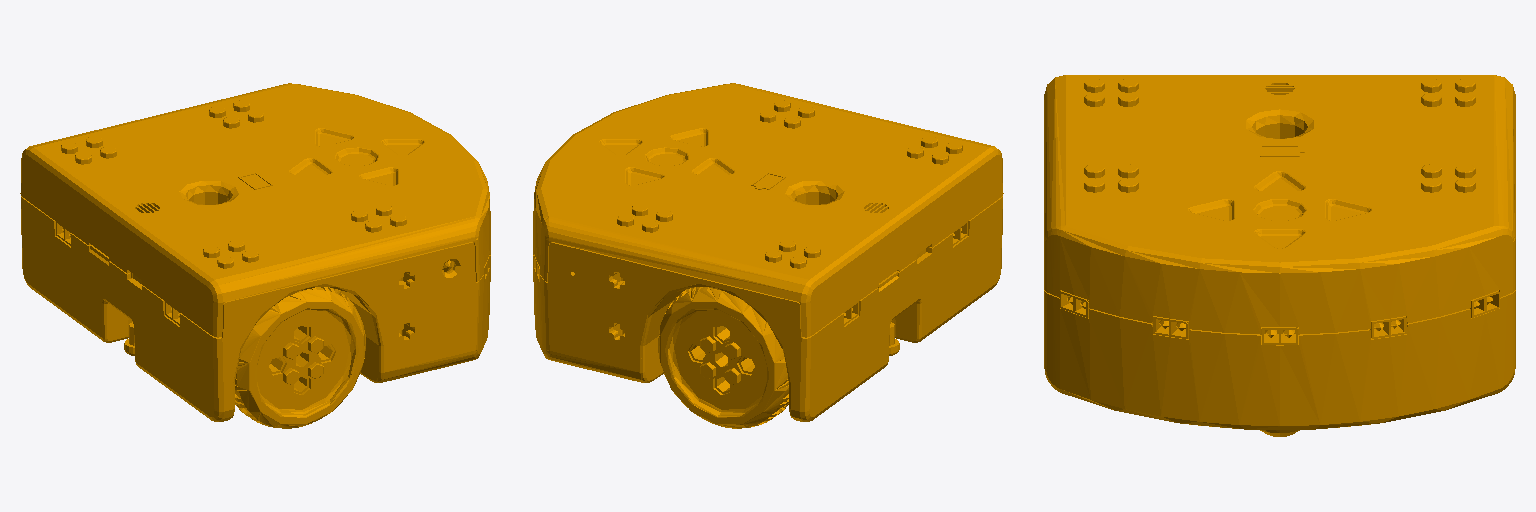
robot.urdf — myfirst:
<?xml version="1.0"?>
<robot name="myfirst">
  <link name="base_link">
    <visual>
      <geometry>
	<mesh filename="package://thymio_driver/models/meshes/thymio.dae"/>	
        <!--><cylinder length="0.1" radius="0.2"/><-->
      </geometry>
    </visual>
  </link>

 <link name="proximity_center_link"/>
 <link name="proximity_center_left_link"/>
 <link name="proximity_center_right_link"/>
 <link name="proximity_left_link"/>
 <link name="proximity_right_link"/>
 <link name="proximity_rear_left_link"/>
 <link name="proximity_rear_right_link"/>
 <link name="ground_left_link"/>
 <link name="ground_right_link"/>

  <joint name="proximity_center_joint" type="fixed">
    <origin xyz="0.08 0 0.034" rpy="0 0 0"/>
    <parent link="base_link"/>
    <child link="proximity_center_link"/>
  </joint>

  <joint name="proximity_center_left_joint" type="fixed">
    <origin xyz="0.0759 0.0252 0.034" rpy="0 0 0.32"/>
    <parent link="base_link"/>
    <child link="proximity_center_left_link"/>
  </joint>

  <joint name="proximity_left_joint" type="fixed">
    <origin xyz="0.0642 0.0478 0.034" rpy="0 0 0.64"/>
    <parent link="base_link"/>
    <child link="proximity_left_link"/>
  </joint>

  <joint name="proximity_center_right_joint" type="fixed">
    <origin xyz="0.0759 -0.0252 0.034" rpy="0 0 -0.32"/>
    <parent link="base_link"/>
    <child link="proximity_center_right_link"/>
  </joint>

  <joint name="proximity_right_joint" type="fixed">
    <origin xyz="0.0642 -0.0478 0.034" rpy="0 0 -0.64"/>
    <parent link="base_link"/>
    <child link="proximity_right_link"/>
  </joint>


  <joint name="proximity_rear_left_joint" type="fixed">
    <origin xyz="-0.03 0.03 0.034" rpy="0 0 3.1416"/>
    <parent link="base_link"/>
    <child link="proximity_rear_left_link"/>
  </joint>

  <joint name="proximity_rear_right_joint" type="fixed">
    <origin xyz="-0.03 -0.03 0.034" rpy="0 0 3.1416"/>
    <parent link="base_link"/>
    <child link="proximity_rear_right_link"/>
  </joint>

  <joint name="ground_right_joint" type="fixed">
    <origin xyz="0.07157 -0.01155 0.008" rpy="0 1.5708 0"/>
    <parent link="base_link"/>
    <child link="ground_right_link"/>
  </joint>

  <joint name="ground_left_joint" type="fixed">
    <origin xyz="0.07157 0.01155 0.008" rpy="0 1.5708 0"/>
    <parent link="base_link"/>
    <child link="ground_left_link"/>
  </joint>


</robot>

--- Render facts (derived) ---
The picture shows the robot from 3 angles, left to right: view 1: azimuth 30°, elevation 25°; view 2: azimuth 150°, elevation 25°; view 3: azimuth 270°, elevation 25°; orthographic projection.
Model myfirst with 10 links and 9 joints (9 fixed), rooted at base_link, posed all joints at 0.
Visible links, largest first — view 1: base_link; view 2: base_link; view 3: base_link.
Link boxes in pixels (<box>): base_link: <box>20,83,490,428</box>; base_link: <box>533,83,1003,428</box>; base_link: <box>1044,75,1515,436</box>.
Size in the robot's own frame: 0.11 by 0.1118 by 0.0546 metres.
1 mesh visuals loaded from 1 distinct referenced files (1 Collada DAE).
